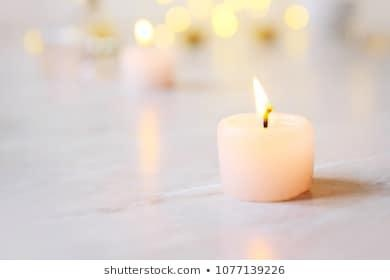fire: (135, 103, 160, 171), (250, 73, 275, 127)
